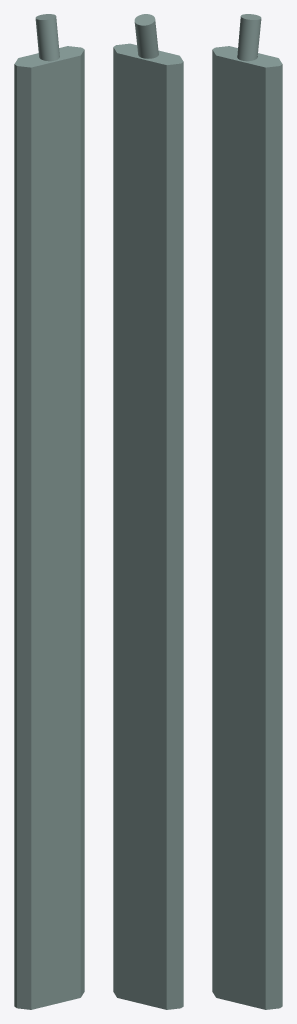
The model's file is WEA_2.gltf.
3 views of the same model, side by side, from view 1: azimuth 30°, elevation 25°; view 2: azimuth 150°, elevation 25°; view 3: azimuth 330°, elevation 25° (orthographic).
Parts seen in each view (by area): view 1: Raskladchik; view 2: Raskladchik; view 3: Raskladchik.
Boxes of the visible parts, left/top/right/bottom form: Raskladchik: left=14, top=14, right=84, bottom=1009; Raskladchik: left=113, top=14, right=183, bottom=1009; Raskladchik: left=212, top=14, right=282, bottom=1009.
Size of the model in its own units: 0.015 by 0.2082 by 0.00584.
